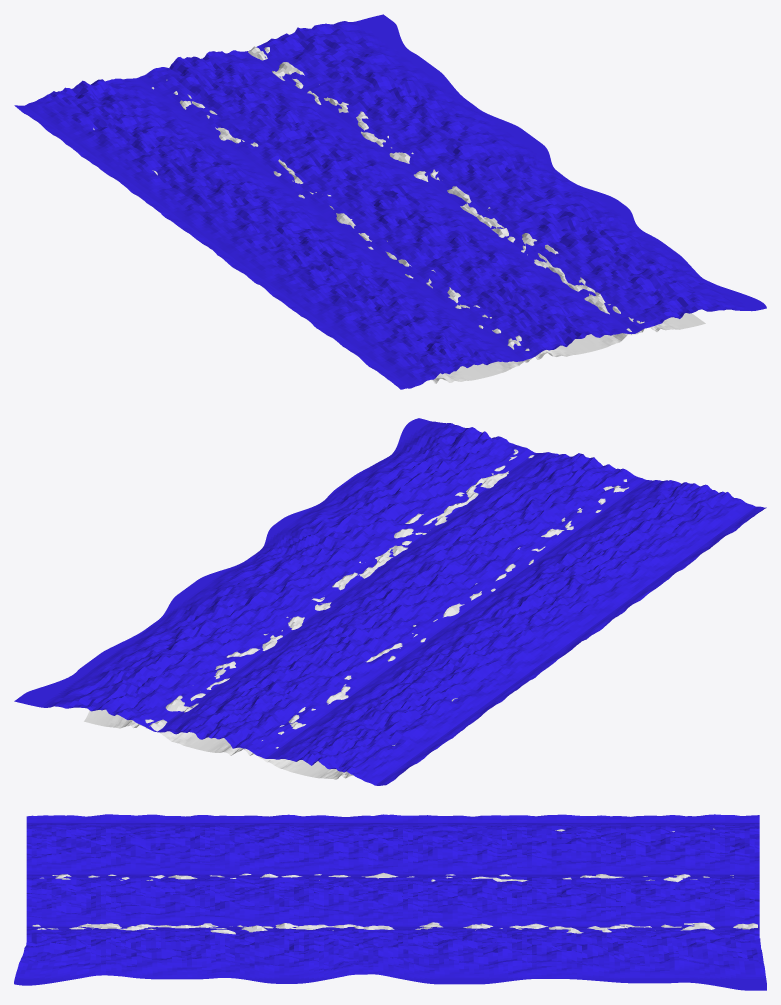
Rendered from sea.fbx.
3 views of the same model, one above another, from view 1: azimuth 30°, elevation 25°; view 2: azimuth 150°, elevation 25°; view 3: azimuth 270°, elevation 25° (orthographic). The views are drawn at different scales.
Visible parts, largest first — view 1: Grid, Grid_001; view 2: Grid, Grid_001; view 3: Grid, Grid_001.
Boxes of the visible parts, x1=… form: Grid: x1=14, y1=14, x2=766, y2=389; Grid_001: x1=93, y1=46, x2=705, y2=383; Grid: x1=14, y1=418, x2=766, y2=785; Grid_001: x1=84, y1=449, x2=628, y2=779; Grid: x1=14, y1=814, x2=766, y2=990; Grid_001: x1=32, y1=828, x2=757, y2=934.
Size of the model in its own units: 34889 by 1950 by 64292.
